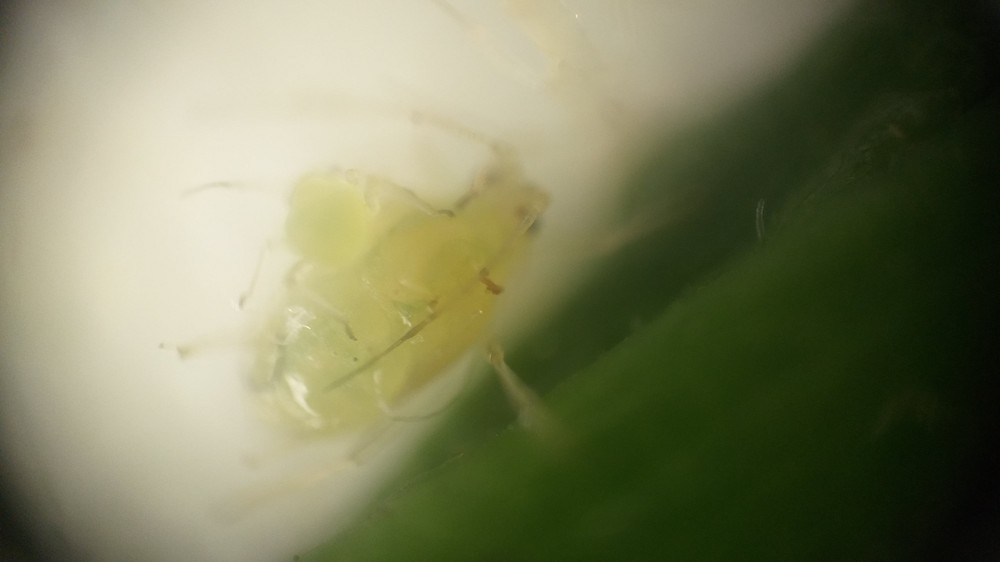Pulgon: (176, 78, 730, 474)
